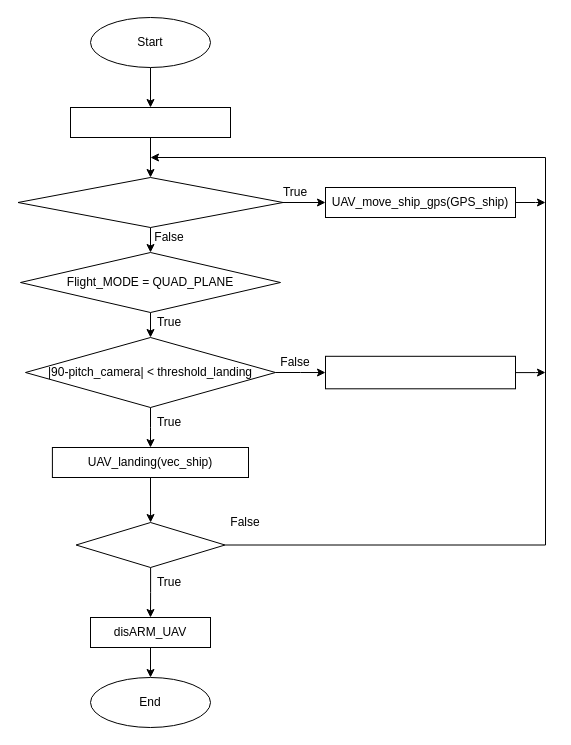
The diagram is 571 pixels wide and 745 high, and some of its shapes have lost their labels. The shapes that lost their labels are listed below. From the top down, each one's centre as x and y in pixels, then its label:
At point (150, 122): "UAV_takeoff(default_all)".
At point (150, 202): "Flight_MODE = FIXED_WING".
At point (420, 372): "UAV_move_ship_vec(default_vec)".
At point (150, 545): "alt_uav = alt_ship".
